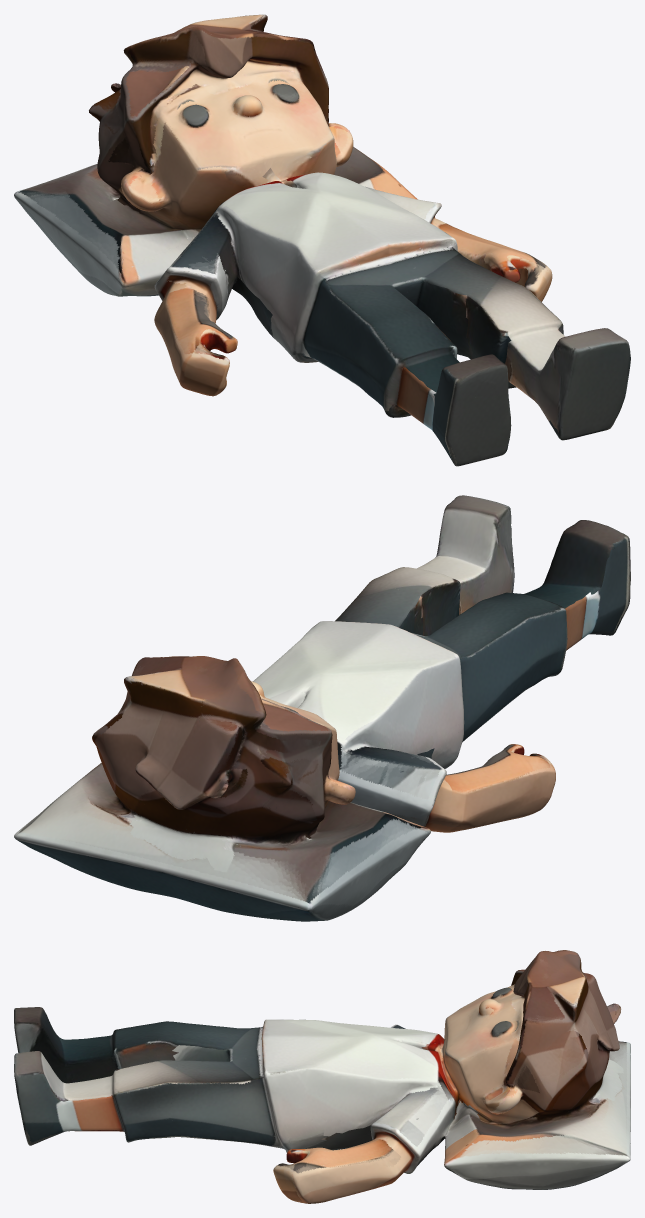
The model's file is sick_kid.glb.
3 views of the same model, one above another, from view 1: azimuth 30°, elevation 25°; view 2: azimuth 150°, elevation 25°; view 3: azimuth 270°, elevation 25° (orthographic). The views are drawn at different scales.
Parts seen in each view (by area): view 1: Mesh; view 2: Mesh; view 3: Mesh.
Boxes of the visible parts, left/top/right/bottom form: Mesh: left=14, top=14, right=630, bottom=466; Mesh: left=14, top=495, right=630, bottom=921; Mesh: left=14, top=950, right=630, bottom=1203.
Bounding box in the file's own units: 0.5536 × 0.3358 × 0.9889.
Materials: 1 (1 with a texture image).
